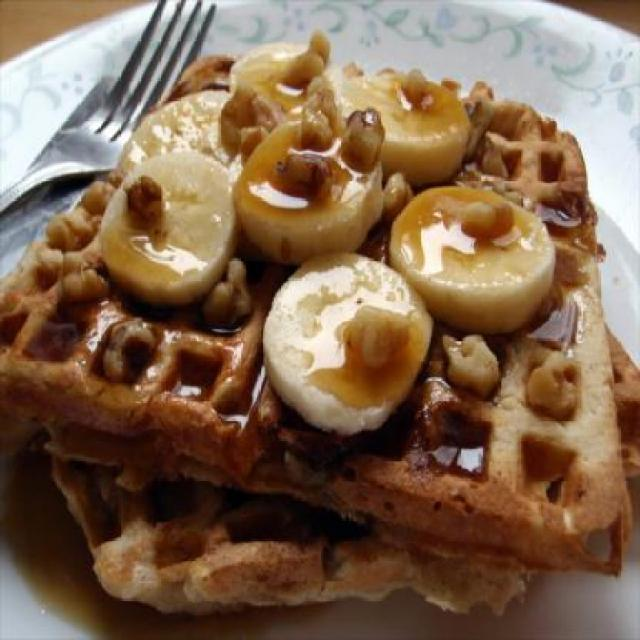Waffle: (0, 53, 638, 581), (37, 320, 640, 622), (41, 321, 640, 621)
